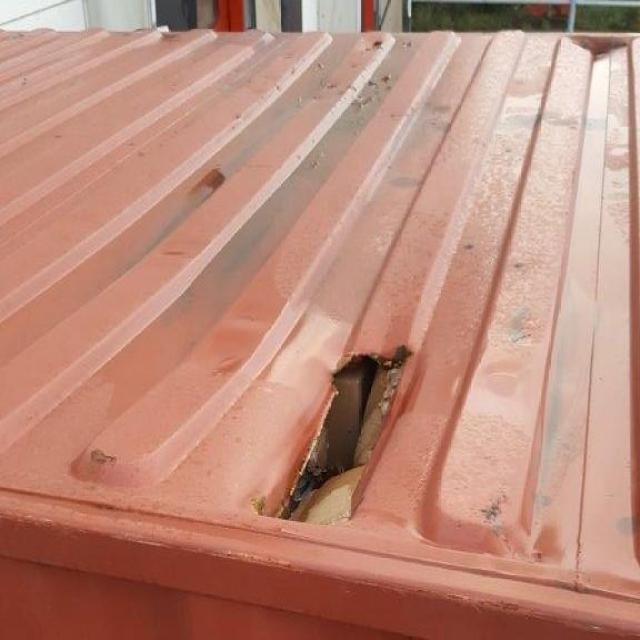hole: (286, 342, 416, 523)
